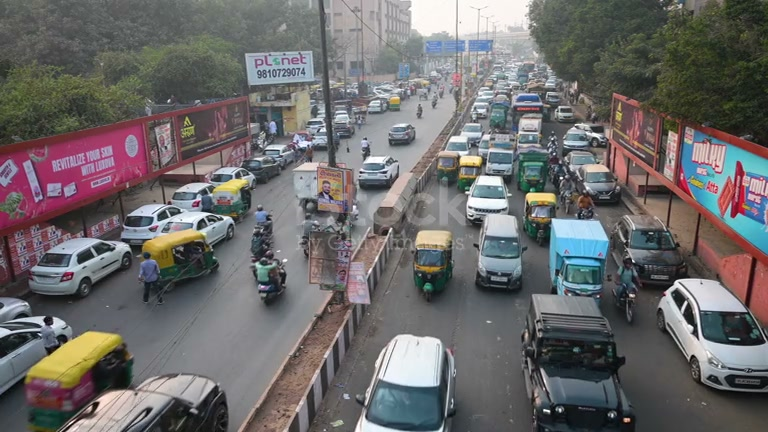bus: (511, 94, 544, 137)
car: (655, 277, 768, 392), (22, 329, 135, 421), (58, 372, 231, 431), (354, 334, 459, 430), (27, 236, 133, 298), (140, 227, 220, 299), (0, 317, 72, 396), (611, 213, 687, 285), (473, 214, 525, 292), (169, 180, 252, 221), (158, 211, 236, 248), (412, 229, 455, 295), (119, 202, 184, 244), (465, 174, 511, 225), (523, 191, 558, 243), (577, 165, 622, 205), (357, 155, 400, 189), (516, 150, 550, 192), (208, 165, 256, 191), (238, 156, 282, 183), (484, 145, 516, 176), (261, 142, 298, 168), (0, 296, 32, 323), (388, 123, 417, 145)
motorcycle: (252, 259, 287, 306), (613, 282, 637, 324)
pedestrian: (39, 316, 69, 356), (137, 253, 160, 304), (614, 257, 640, 302), (39, 316, 60, 356), (575, 193, 595, 220), (360, 135, 371, 161)
truck: (520, 294, 634, 429), (548, 217, 611, 300), (292, 161, 358, 222)
